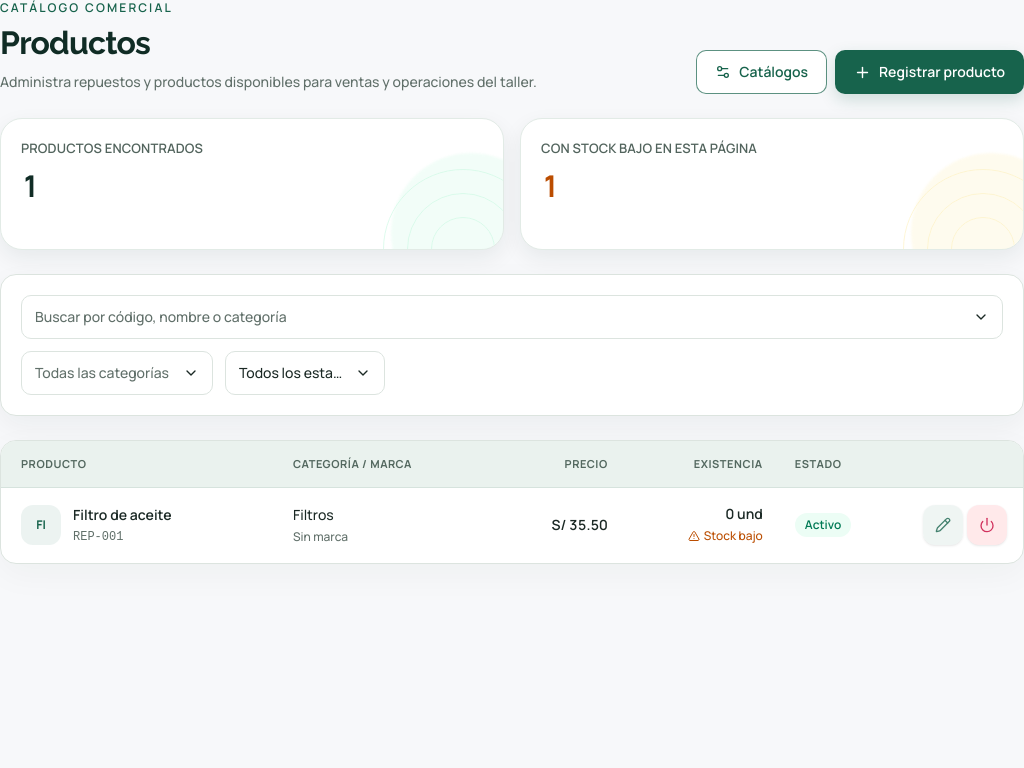
Test case: Página de productos › confirma la desactivación con el diálogo de confirmación
The image size is (1024, 768).
Click the button named "Desactivar Filtro de aceite": (987, 525) x1=967 y1=505 x2=1007 y2=545
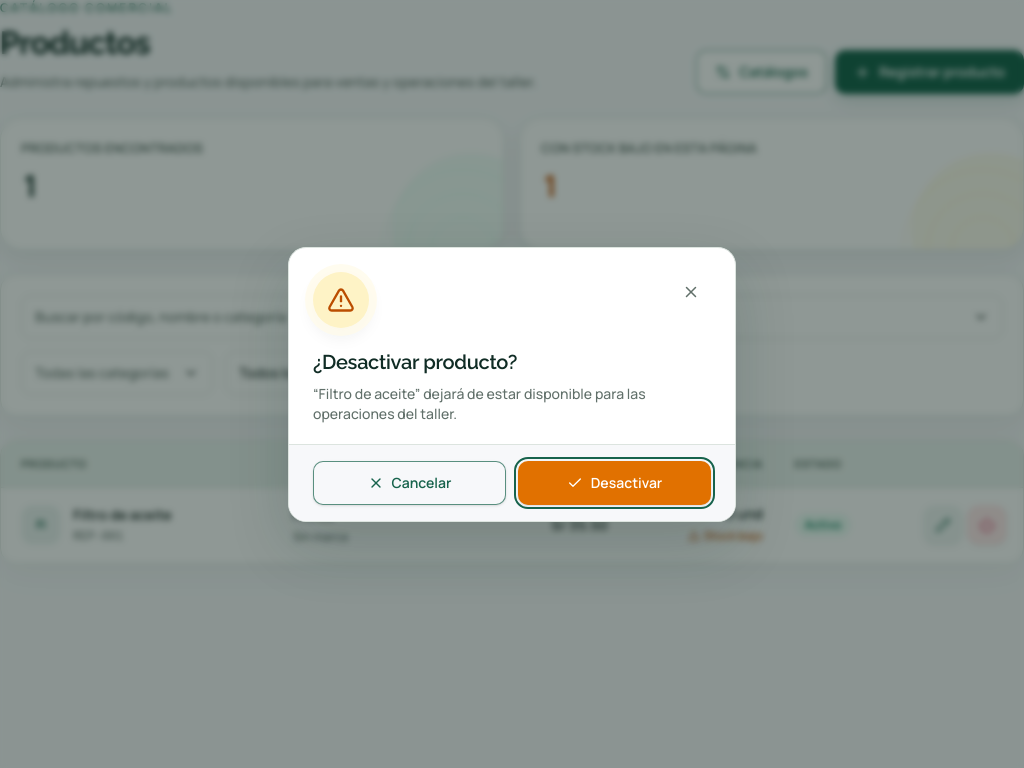
Check: the heading "¿Desactivar producto?" is shown, box x1=313 y1=350 x2=517 y2=374
